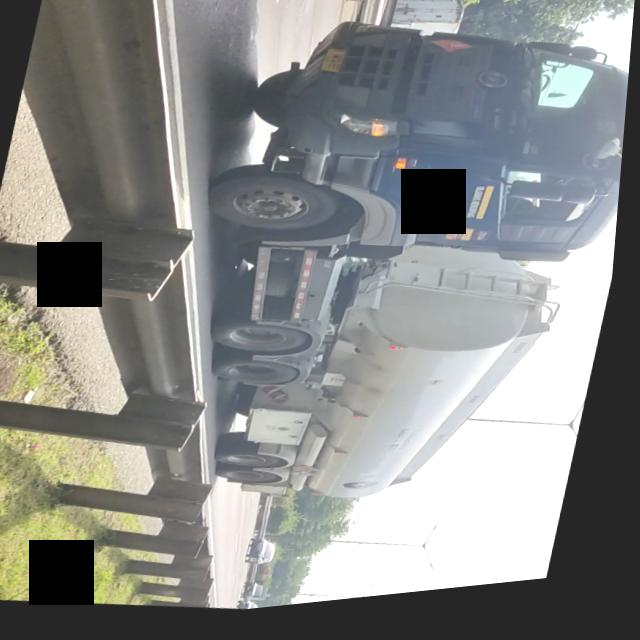Golongan V: (147, 0, 622, 548)
